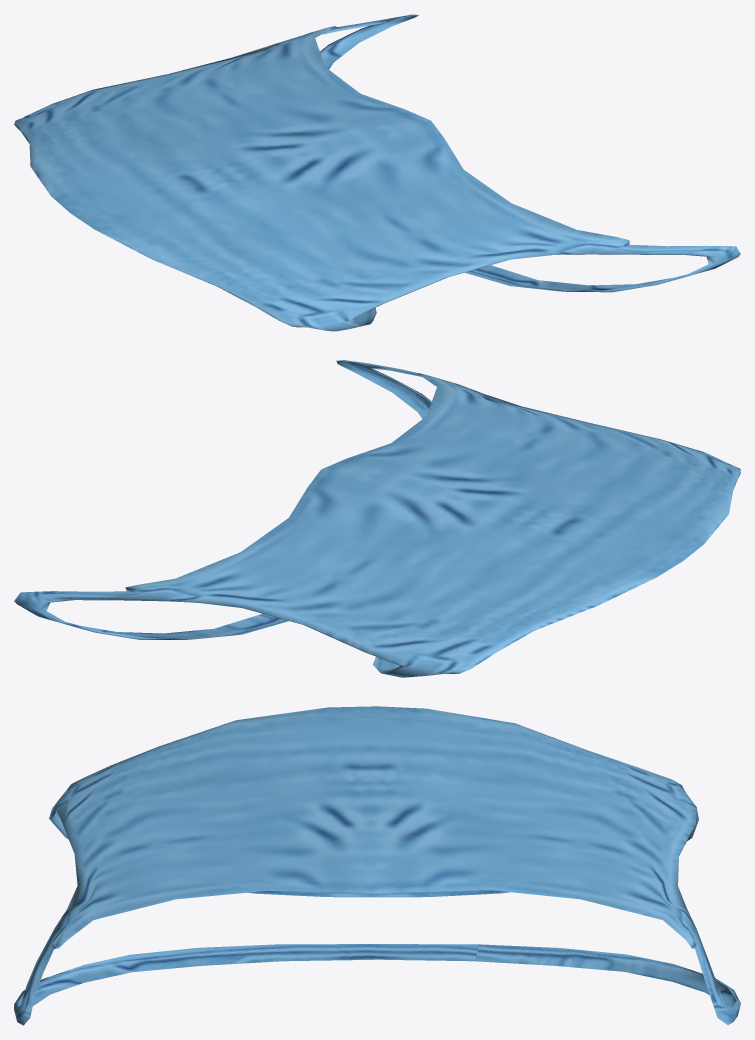
The model's file is DentistSurgicalMask_Ground.fbx.
3 views of the same model, one above another, from view 1: azimuth 30°, elevation 25°; view 2: azimuth 150°, elevation 25°; view 3: azimuth 270°, elevation 25° (orthographic). The views are drawn at different scales.
Parts seen in each view (by area): view 1: DentistSurgicalMask; view 2: DentistSurgicalMask; view 3: DentistSurgicalMask.
Part boxes in pixels (x1,y1,x2,y2): DentistSurgicalMask: (14,14,740,331); DentistSurgicalMask: (14,360,740,677); DentistSurgicalMask: (14,706,740,1025).
Size of the model in its own units: 0.0973 by 0.0155 by 0.1109.
